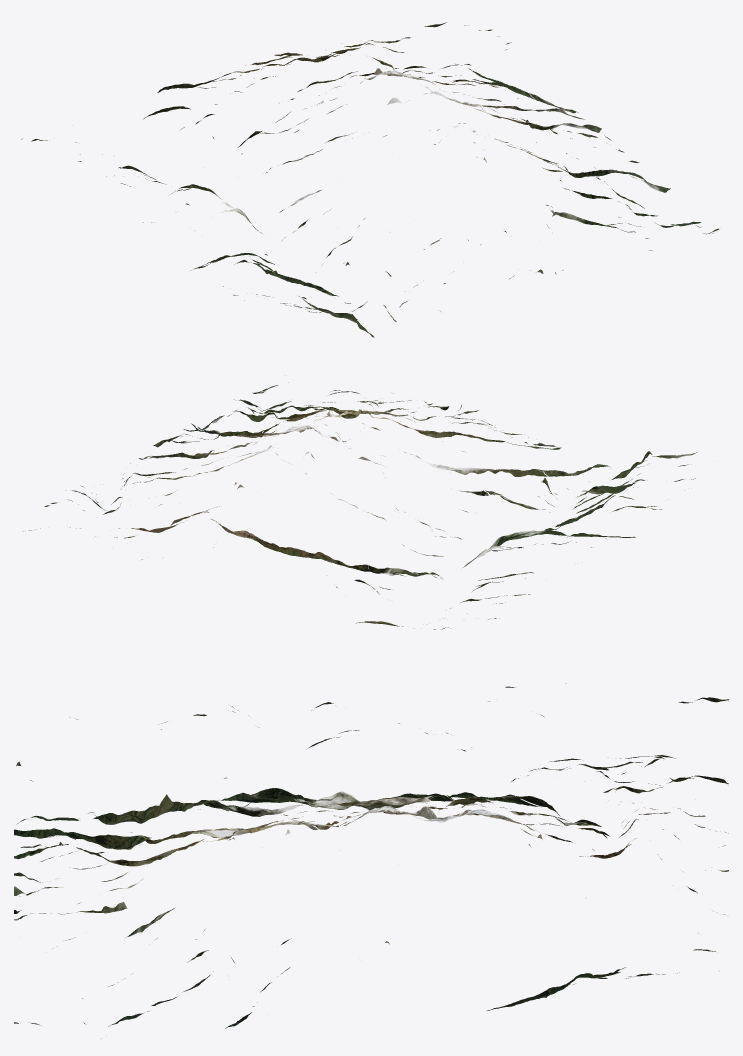
Rendered from nevado_del_huila.glb.
The picture shows the model from 3 angles, top to bottom: view 1: azimuth 30°, elevation 25°; view 2: azimuth 150°, elevation 25°; view 3: azimuth 270°, elevation 25°; orthographic projection. The views are drawn at different scales.
Visible parts, largest first — view 1: dem-rgb-13/2366/4029, dem-rgb-13/2366/4030, dem-rgb-13/2365/4028, dem-rgb-13/2366/4028, dem-rgb-13/2364/4030; view 2: dem-rgb-13/2365/4030, dem-rgb-13/2364/4030, dem-rgb-13/2366/4029, dem-rgb-13/2366/4030, dem-rgb-13/2364/4029, dem-rgb-13/2365/4028, dem-rgb-13/2364/4028, dem-rgb-13/2365/4029; view 3: dem-rgb-13/2365/4029, dem-rgb-13/2365/4030, dem-rgb-13/2364/4030, dem-rgb-13/2364/4029, dem-rgb-13/2365/4028, dem-rgb-13/2364/4028, dem-rgb-13/2366/4030, dem-rgb-13/2366/4028.
Boxes of the visible parts, bbox=[...] form: dem-rgb-13/2366/4029: bbox=[405, 75, 639, 171]; dem-rgb-13/2366/4030: bbox=[542, 159, 719, 250]; dem-rgb-13/2365/4028: bbox=[165, 52, 399, 147]; dem-rgb-13/2366/4028: bbox=[331, 22, 534, 99]; dem-rgb-13/2364/4030: bbox=[191, 239, 407, 337]; dem-rgb-13/2365/4030: bbox=[349, 401, 561, 476]; dem-rgb-13/2364/4030: bbox=[492, 451, 697, 527]; dem-rgb-13/2366/4029: bbox=[122, 414, 333, 486]; dem-rgb-13/2366/4030: bbox=[191, 382, 411, 433]; dem-rgb-13/2364/4029: bbox=[410, 490, 635, 578]; dem-rgb-13/2365/4028: bbox=[211, 484, 371, 586]; dem-rgb-13/2364/4028: bbox=[336, 565, 530, 629]; dem-rgb-13/2365/4029: bbox=[265, 411, 488, 545]; dem-rgb-13/2365/4029: bbox=[252, 795, 490, 847]; dem-rgb-13/2365/4030: bbox=[14, 804, 252, 920]; dem-rgb-13/2364/4030: bbox=[14, 706, 252, 839]; dem-rgb-13/2364/4029: bbox=[252, 701, 490, 809]; dem-rgb-13/2365/4028: bbox=[490, 780, 728, 871]; dem-rgb-13/2364/4028: bbox=[490, 683, 728, 807]; dem-rgb-13/2366/4030: bbox=[14, 902, 251, 1028]; dem-rgb-13/2366/4028: bbox=[490, 844, 725, 1009].
Size of the model in its own units: 1.73 by 0.3601 by 1.73.
9 materials, 9 textured.
